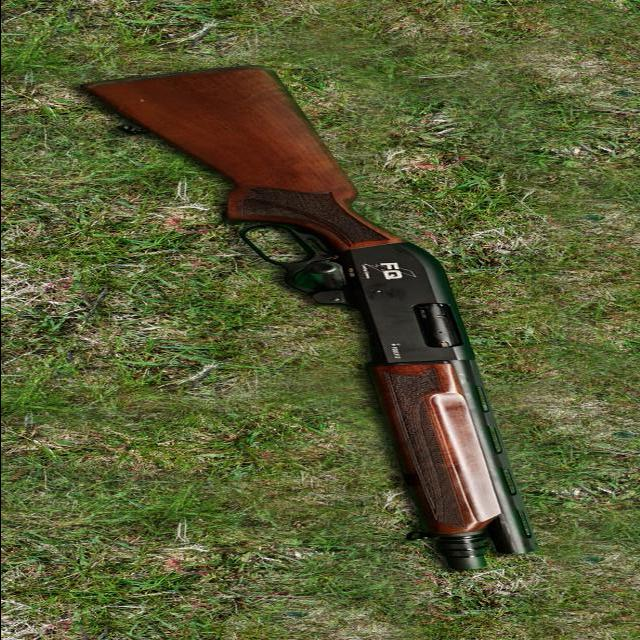shotgun: (105, 57, 539, 578)
